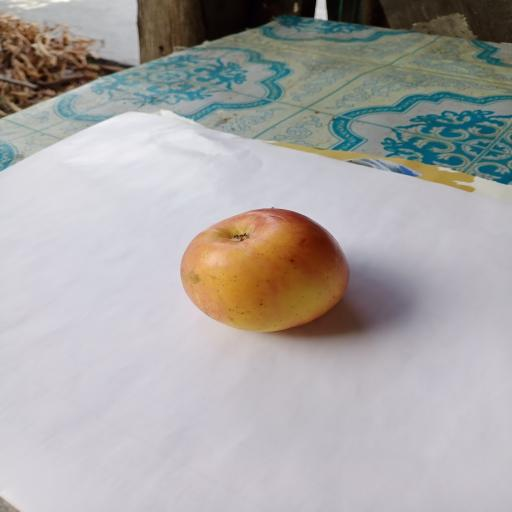apple-ripe: (175, 206, 360, 341)
